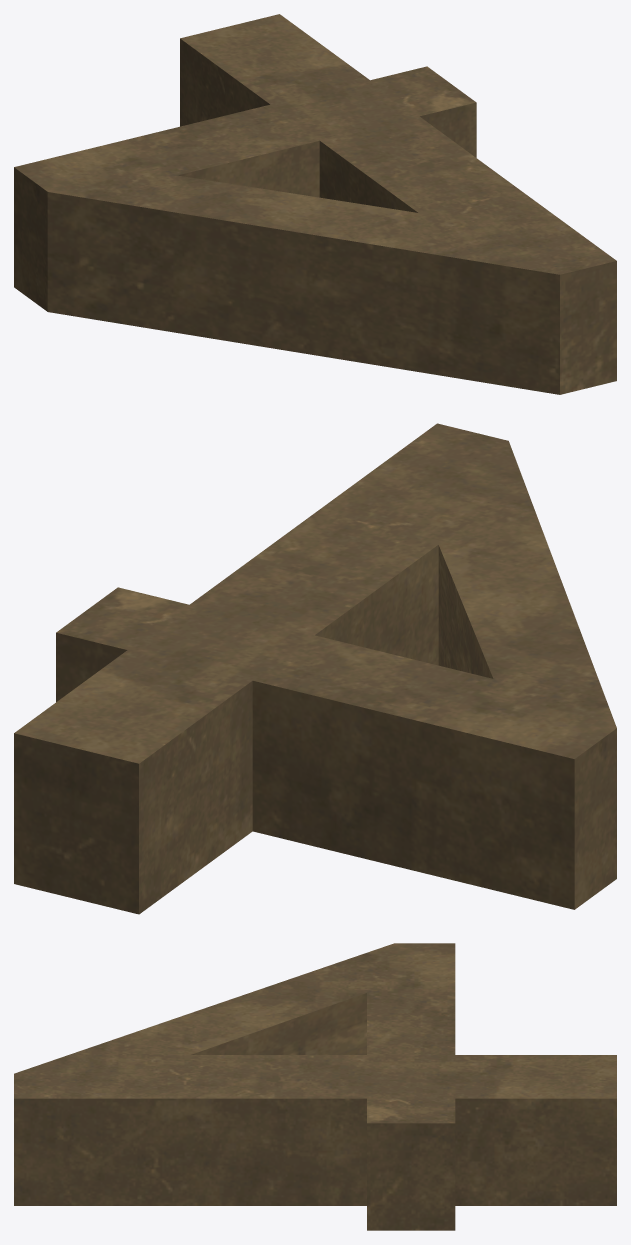
File: p6_3d_txt_levenim_frnt_gold_4_LOD0.obj
3 renders of one model, top to bottom at view 1: azimuth 30°, elevation 25°; view 2: azimuth 150°, elevation 25°; view 3: azimuth 270°, elevation 25°, orthographic. The views are drawn at different scales.
Visible parts, largest first — view 1: dub_gold_shiny_01; view 2: dub_gold_shiny_01; view 3: dub_gold_shiny_01.
Part boxes in pixels (x1,y1,x2,y2): dub_gold_shiny_01: (14,14,616,394); dub_gold_shiny_01: (14,423,616,914); dub_gold_shiny_01: (14,943,616,1230).
Bounding box in the file's own units: 69.6 × 19.34 × 98.4.
